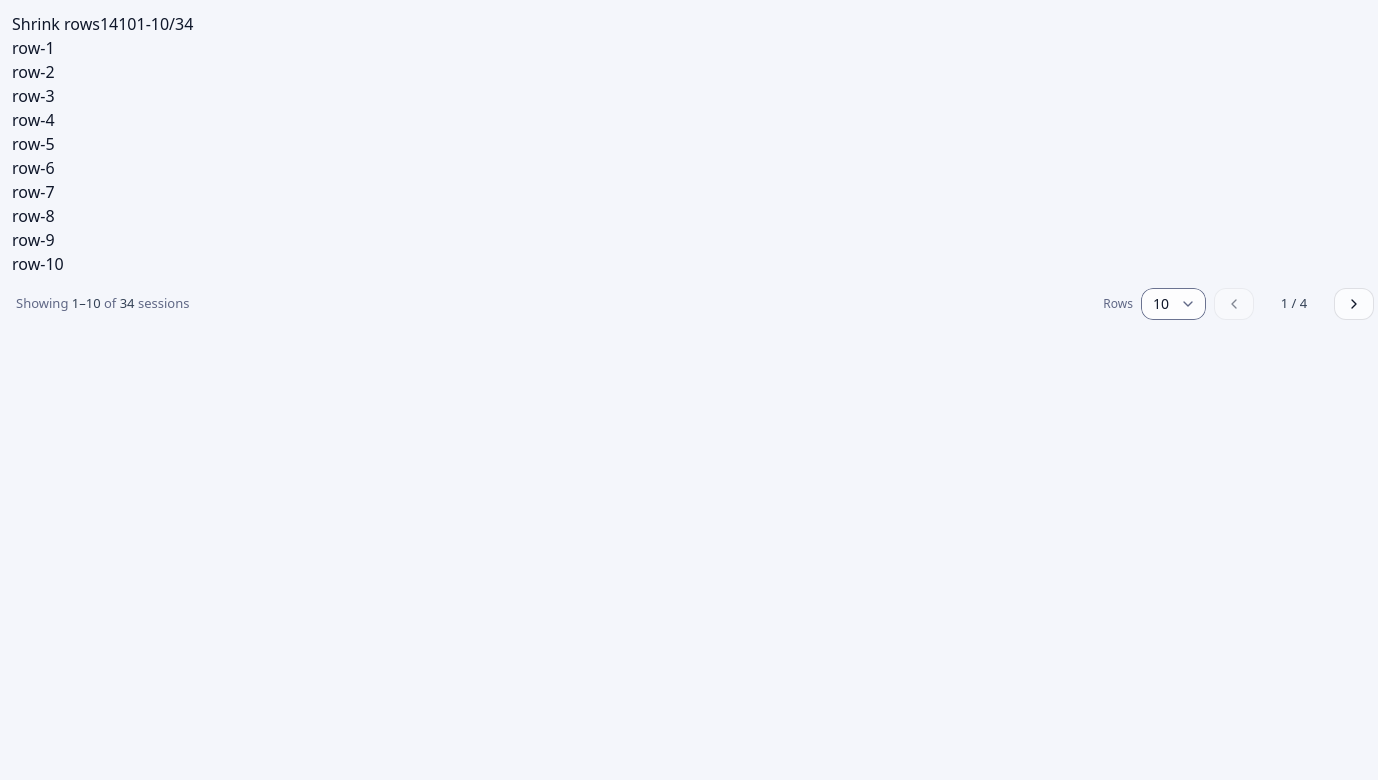
Scenario: usePagination + Pagination › resets to page 1 and recomputes the page count when the page size changes
Click the button named "Next page" at (1354, 304), box [1334,288,1374,320]
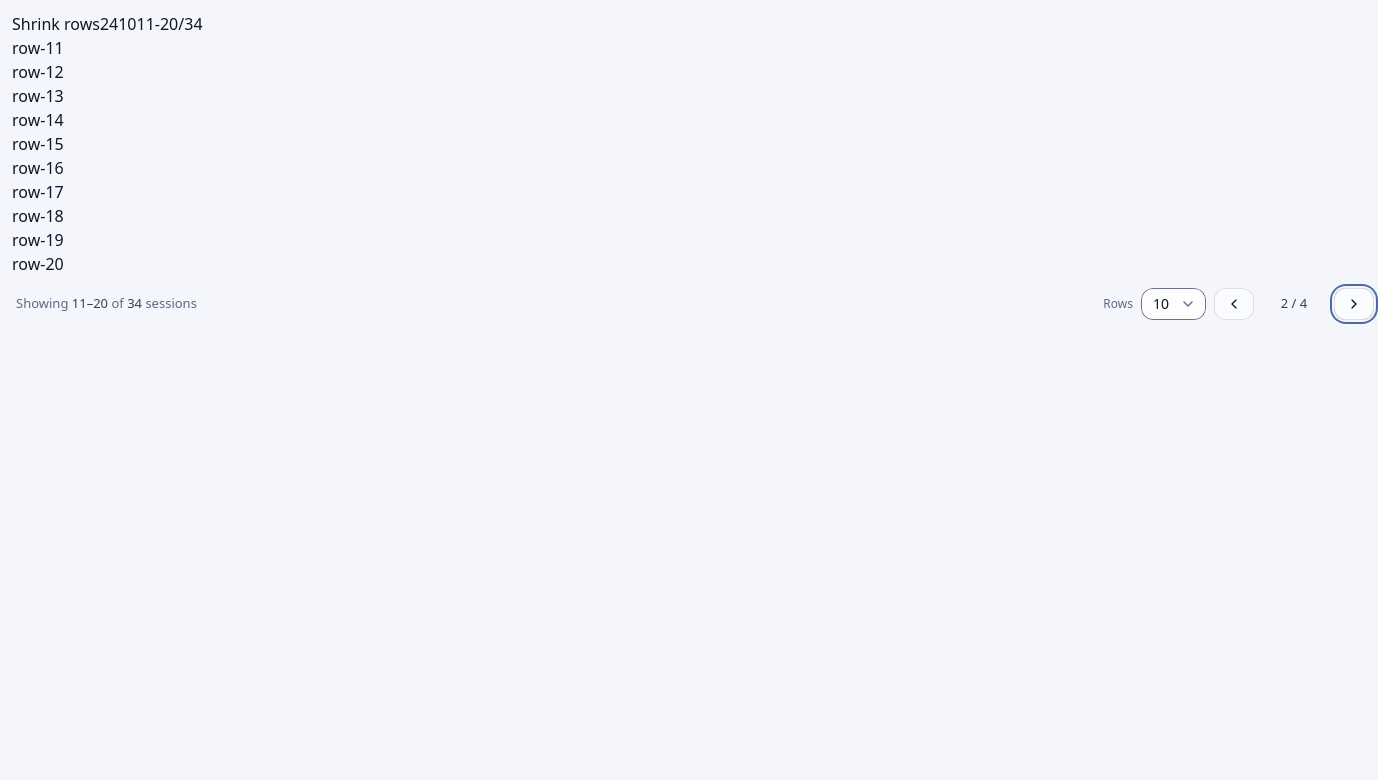
Expected: the text with test id "page" reads "2", [100,13,109,35]
Select "25" in the dropdown named "Rows per page" at (1174, 304), box [1141,288,1206,320]
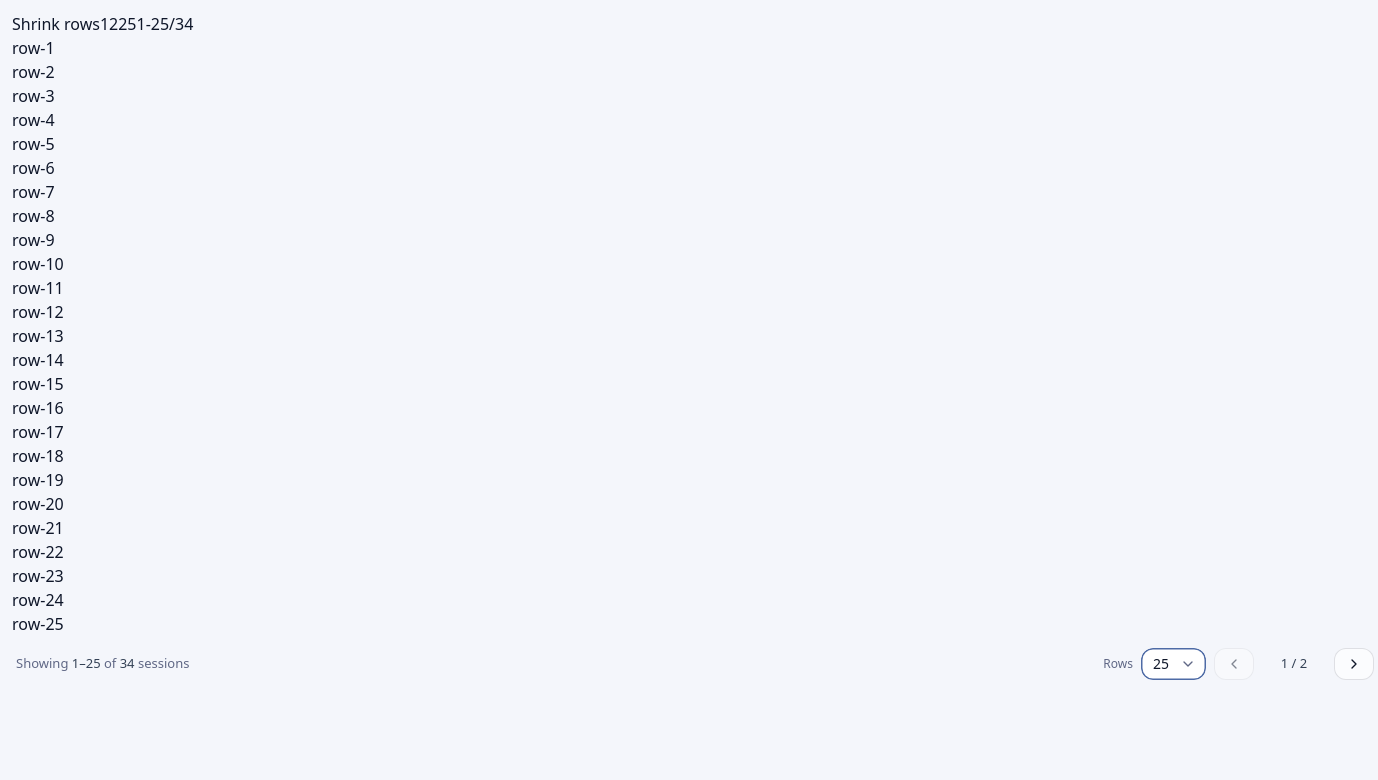
Expected: the text with test id "page-size" reads "25", [118,13,136,35]
Expected: the text with test id "page" reads "1", [100,13,109,35]
Expected: the text with test id "page-count" reads "2", [109,13,118,35]
